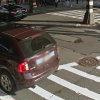Crosswalk: (36, 60, 100, 99)
